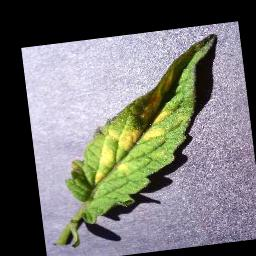Leaf_Mold: (86, 123, 170, 185)
